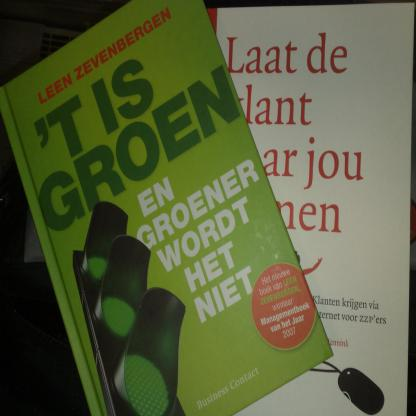book: (0, 1, 334, 416), (204, 0, 415, 416)
